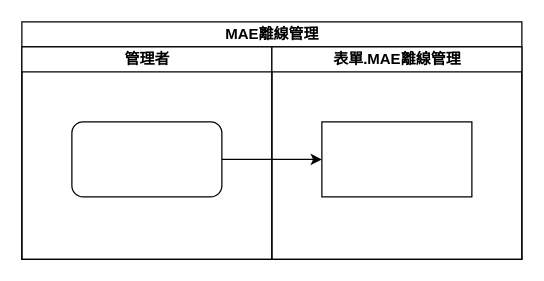
This 544x281 diagram has some shape labels left out. Each missing label, with the centre of its shape:
依條件設定 顯示符合清單: the point at 396,159
點擊按鈕.過濾: the point at 146,159
